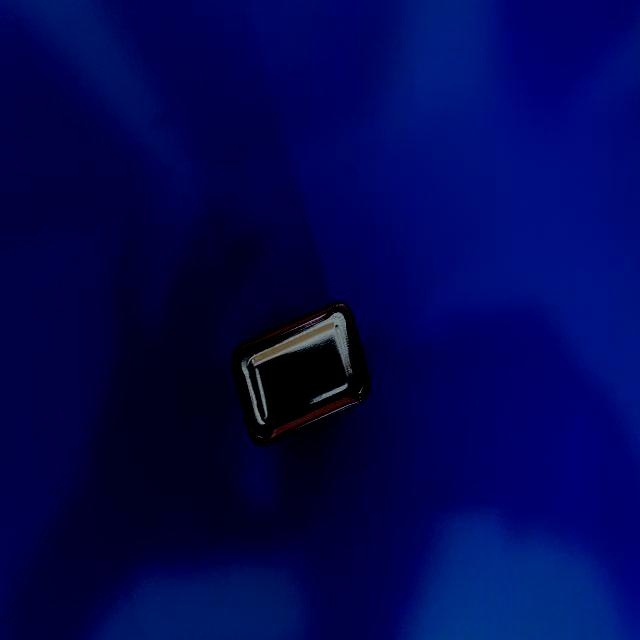9V: (233, 301, 370, 448)
